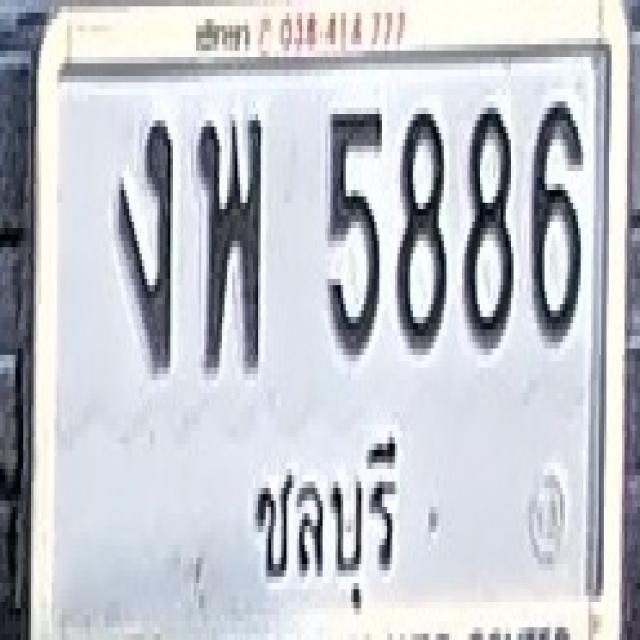5: (326, 101, 384, 355)
6: (530, 92, 582, 339)
8: (462, 98, 513, 346), (395, 105, 446, 352)
A07: (116, 111, 173, 371)
A30: (195, 111, 262, 371)
CBI: (247, 432, 406, 628)
